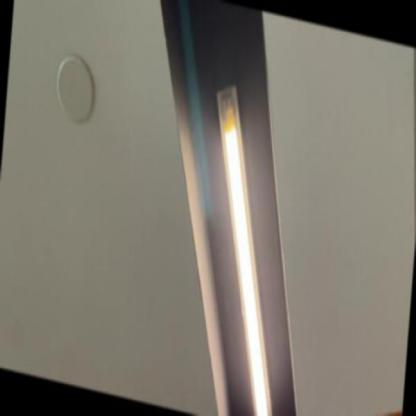light_on: (182, 69, 305, 415)
